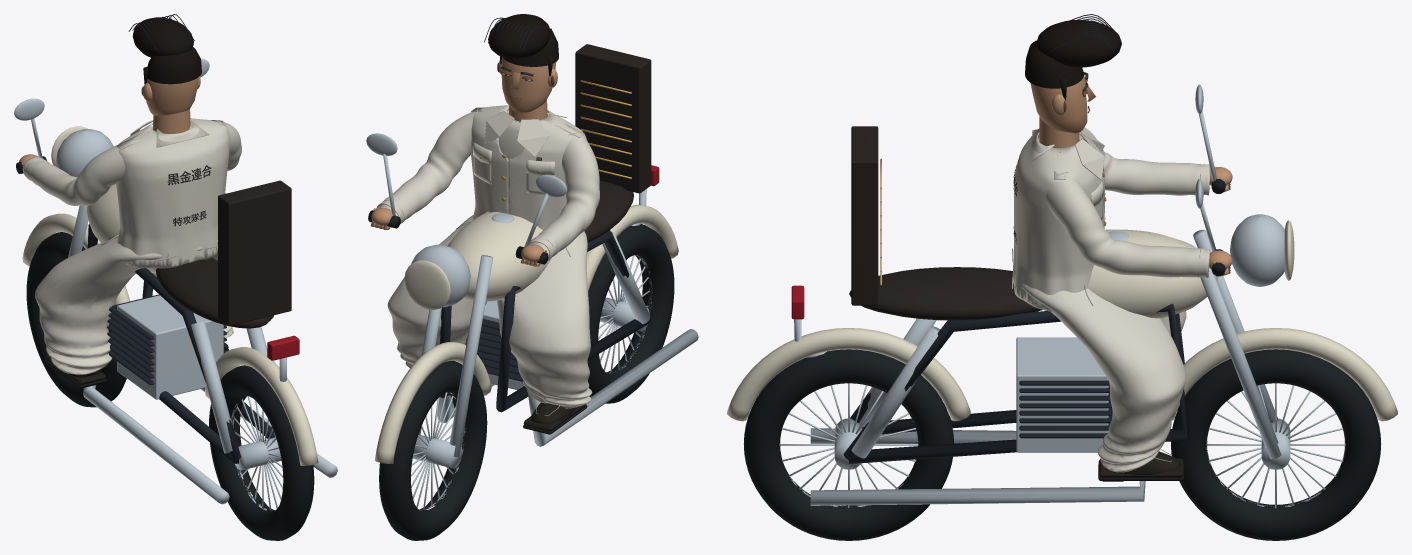
3 renders of one model, left to right at view 1: azimuth 30°, elevation 25°; view 2: azimuth 150°, elevation 25°; view 3: azimuth 270°, elevation 25°, orthographic. The views are drawn at different scales.
Visible parts, largest first — view 1: YR_V2_Tailored coat shell, YR_TallSeatBack_ClothingV2, YR_V2_Sewn high waist bontan, YR_Tire_ClothingV2, YR_Engine_ClothingV2, YR_Tire.001_ClothingV2, YR_V2_Set in shaped sleeve, YR_Fender_ClothingV2, YR_SteppedSeat_ClothingV2, YR_Exhaust_ClothingV2, YR_Frame_ClothingV2, YR_Pompadour_ClothingV2 (+15 smaller); view 2: YR_V2_Sewn high waist bontan, YR_Tire.001_ClothingV2, YR_TallSeatBack_ClothingV2, YR_Tire_ClothingV2, YR_V2_Tailored coat shell, YR_FuelTank_ClothingV2, YR_V2_Set in shaped sleeve, YR_V2_Set in shaped sleeve.001, YR_Fender.001_ClothingV2, YR_Frame_ClothingV2, YR_FrontFork_ClothingV2, YR_Exhaust_ClothingV2 (+21 smaller); view 3: YR_Tire.001_ClothingV2, YR_Tire_ClothingV2, YR_V2_Sewn high waist bontan, YR_V2_Tailored coat shell, YR_Engine_ClothingV2, YR_SteppedSeat_ClothingV2, YR_V2_Set in shaped sleeve.001, YR_Fender_ClothingV2, YR_Exhaust.001_ClothingV2, YR_Fender.001_ClothingV2, YR_Frame.001_ClothingV2, YR_TallSeatBack_ClothingV2 (+14 smaller).
Boxes of the visible parts, bbox=[...] form: YR_V2_Tailored coat shell: bbox=[116, 118, 229, 268]; YR_TallSeatBack_ClothingV2: bbox=[218, 180, 291, 325]; YR_V2_Sewn high waist bontan: bbox=[35, 237, 233, 374]; YR_Tire_ClothingV2: bbox=[209, 365, 314, 540]; YR_Engine_ClothingV2: bbox=[117, 295, 223, 399]; YR_Tire.001_ClothingV2: bbox=[26, 232, 126, 407]; YR_V2_Set in shaped sleeve: bbox=[23, 146, 125, 205]; YR_Fender_ClothingV2: bbox=[204, 347, 318, 465]; YR_SteppedSeat_ClothingV2: bbox=[155, 258, 273, 328]; YR_Exhaust_ClothingV2: bbox=[83, 385, 229, 504]; YR_Frame_ClothingV2: bbox=[87, 224, 241, 463]; YR_Pompadour_ClothingV2: bbox=[132, 17, 193, 57]; YR_V2_Sewn high waist bontan: bbox=[387, 215, 592, 408]; YR_Tire.001_ClothingV2: bbox=[379, 360, 487, 540]; YR_TallSeatBack_ClothingV2: bbox=[575, 44, 651, 193]; YR_Tire_ClothingV2: bbox=[587, 224, 674, 403]; YR_V2_Tailored coat shell: bbox=[471, 105, 586, 236]; YR_FuelTank_ClothingV2: bbox=[448, 212, 551, 301]; YR_V2_Set in shaped sleeve: bbox=[529, 135, 599, 264]; YR_V2_Set in shaped sleeve.001: bbox=[376, 109, 477, 227]; YR_Fender.001_ClothingV2: bbox=[374, 342, 491, 463]; YR_Frame_ClothingV2: bbox=[496, 230, 649, 412]; YR_FrontFork_ClothingV2: bbox=[449, 255, 493, 457]; YR_Exhaust_ClothingV2: bbox=[527, 329, 698, 446]; YR_Tire.001_ClothingV2: bbox=[1171, 349, 1380, 540]; YR_Tire_ClothingV2: bbox=[744, 349, 953, 540]; YR_V2_Sewn high waist bontan: bbox=[1014, 270, 1186, 472]; YR_V2_Tailored coat shell: bbox=[1012, 128, 1104, 311]; YR_Engine_ClothingV2: bbox=[1016, 337, 1108, 452]; YR_SteppedSeat_ClothingV2: bbox=[849, 267, 1042, 320]; YR_V2_Set in shaped sleeve.001: bbox=[1046, 173, 1209, 277]; YR_Fender_ClothingV2: bbox=[727, 328, 970, 421]; YR_Exhaust.001_ClothingV2: bbox=[810, 481, 1145, 505]; YR_Fender.001_ClothingV2: bbox=[1171, 328, 1397, 421]; YR_Frame.001_ClothingV2: bbox=[843, 303, 1189, 463]; YR_TallSeatBack_ClothingV2: bbox=[851, 126, 878, 305].
Bounding box in the file's own units: 0.83 × 1.78 × 2.1.
